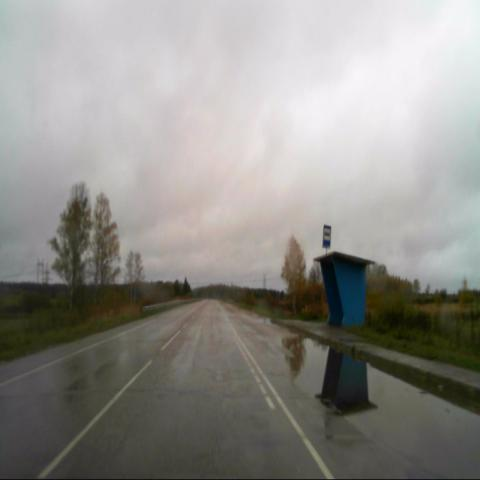5_16: (322, 223, 332, 249)
